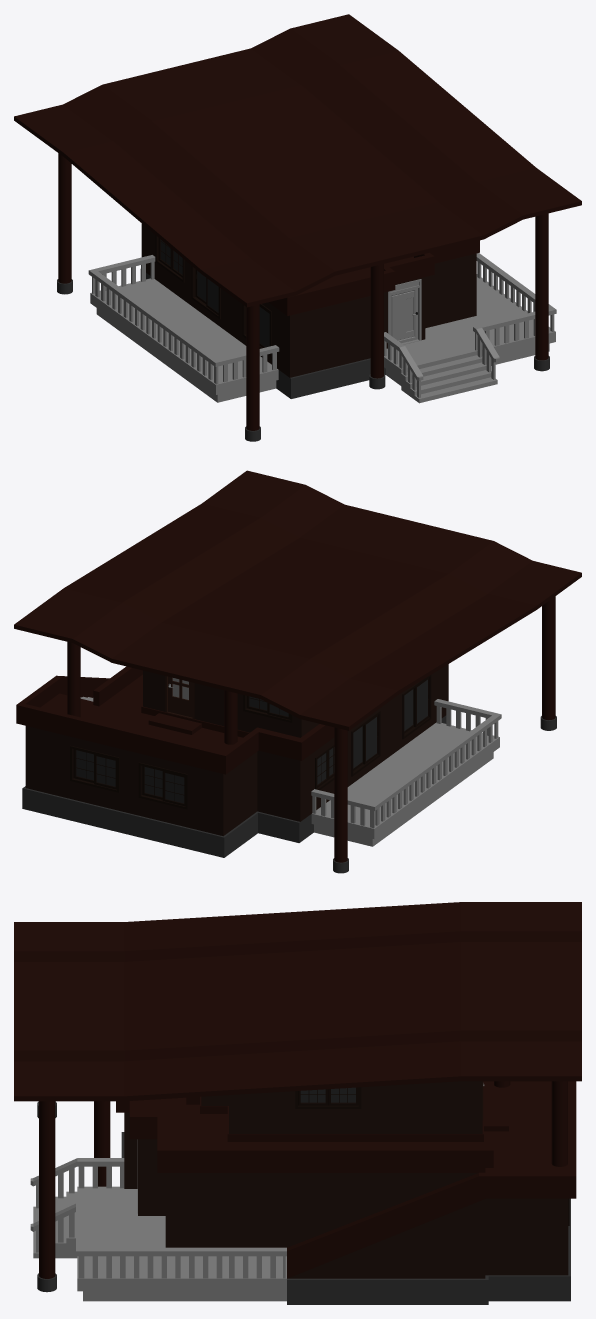
Rendered from H-004(ext)_F.FBX.
3 views of the same model, one above another, from view 1: azimuth 30°, elevation 25°; view 2: azimuth 150°, elevation 25°; view 3: azimuth 270°, elevation 25° (orthographic). The views are drawn at different scales.
Visible parts, largest first — view 1: h-004(ext)_2F_roof, h-004(ext)_base, h-004(ext)_balcony_002, h-004(ext)_balcony_001, h-004(ext)_enterance_door, h-004(ext)_enterance_frame; view 2: h-004(ext)_2F_roof, h-004(ext)_base, h-004(ext)_balcony_002, h-004(ext)_2F_base, h-004(ext)_door_03_door; view 3: h-004(ext)_2F_roof, h-004(ext)_base, h-004(ext)_balcony_001, h-004(ext)_2F_base.
Part boxes in pixels (bbox=[...]): h-004(ext)_2F_roof: bbox=[14, 14, 581, 441]; h-004(ext)_base: bbox=[140, 223, 479, 398]; h-004(ext)_balcony_002: bbox=[88, 255, 279, 402]; h-004(ext)_balcony_001: bbox=[384, 253, 556, 403]; h-004(ext)_enterance_door: bbox=[390, 288, 417, 343]; h-004(ext)_enterance_frame: bbox=[388, 279, 421, 347]; h-004(ext)_2F_roof: bbox=[14, 470, 581, 873]; h-004(ext)_base: bbox=[16, 664, 448, 857]; h-004(ext)_balcony_002: bbox=[311, 699, 501, 846]; h-004(ext)_2F_base: bbox=[141, 670, 319, 737]; h-004(ext)_door_03_door: bbox=[168, 676, 192, 717]; h-004(ext)_2F_roof: bbox=[14, 902, 581, 1292]; h-004(ext)_base: bbox=[116, 1081, 576, 1304]; h-004(ext)_balcony_001: bbox=[30, 1158, 286, 1301]; h-004(ext)_2F_base: bbox=[186, 1081, 508, 1141].
Size of the model in its own units: 172 by 91 by 206.
